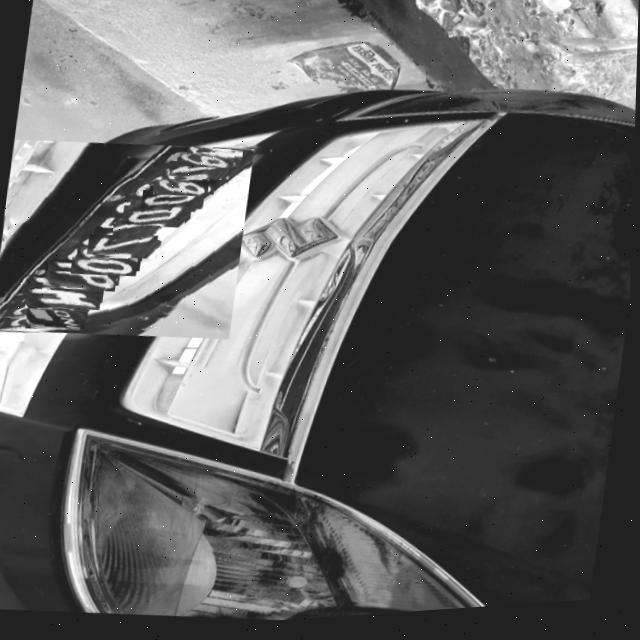0: (70, 251, 138, 281), (140, 188, 198, 217)
1: (167, 160, 223, 186)
6: (177, 148, 235, 174)
7: (87, 231, 158, 264)
9: (152, 174, 210, 202)
C: (112, 219, 171, 246)
D: (121, 203, 187, 233)
IND: (26, 305, 88, 335)
Indian_registered: (0, 148, 254, 320)
M: (25, 283, 103, 315)
P: (43, 267, 117, 297)
